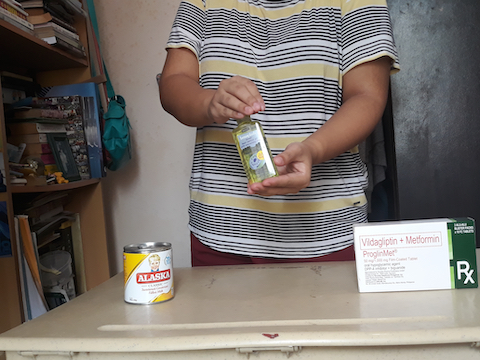bottle: (231, 103, 281, 189)
box: (349, 212, 477, 298)
can: (119, 238, 180, 308)
